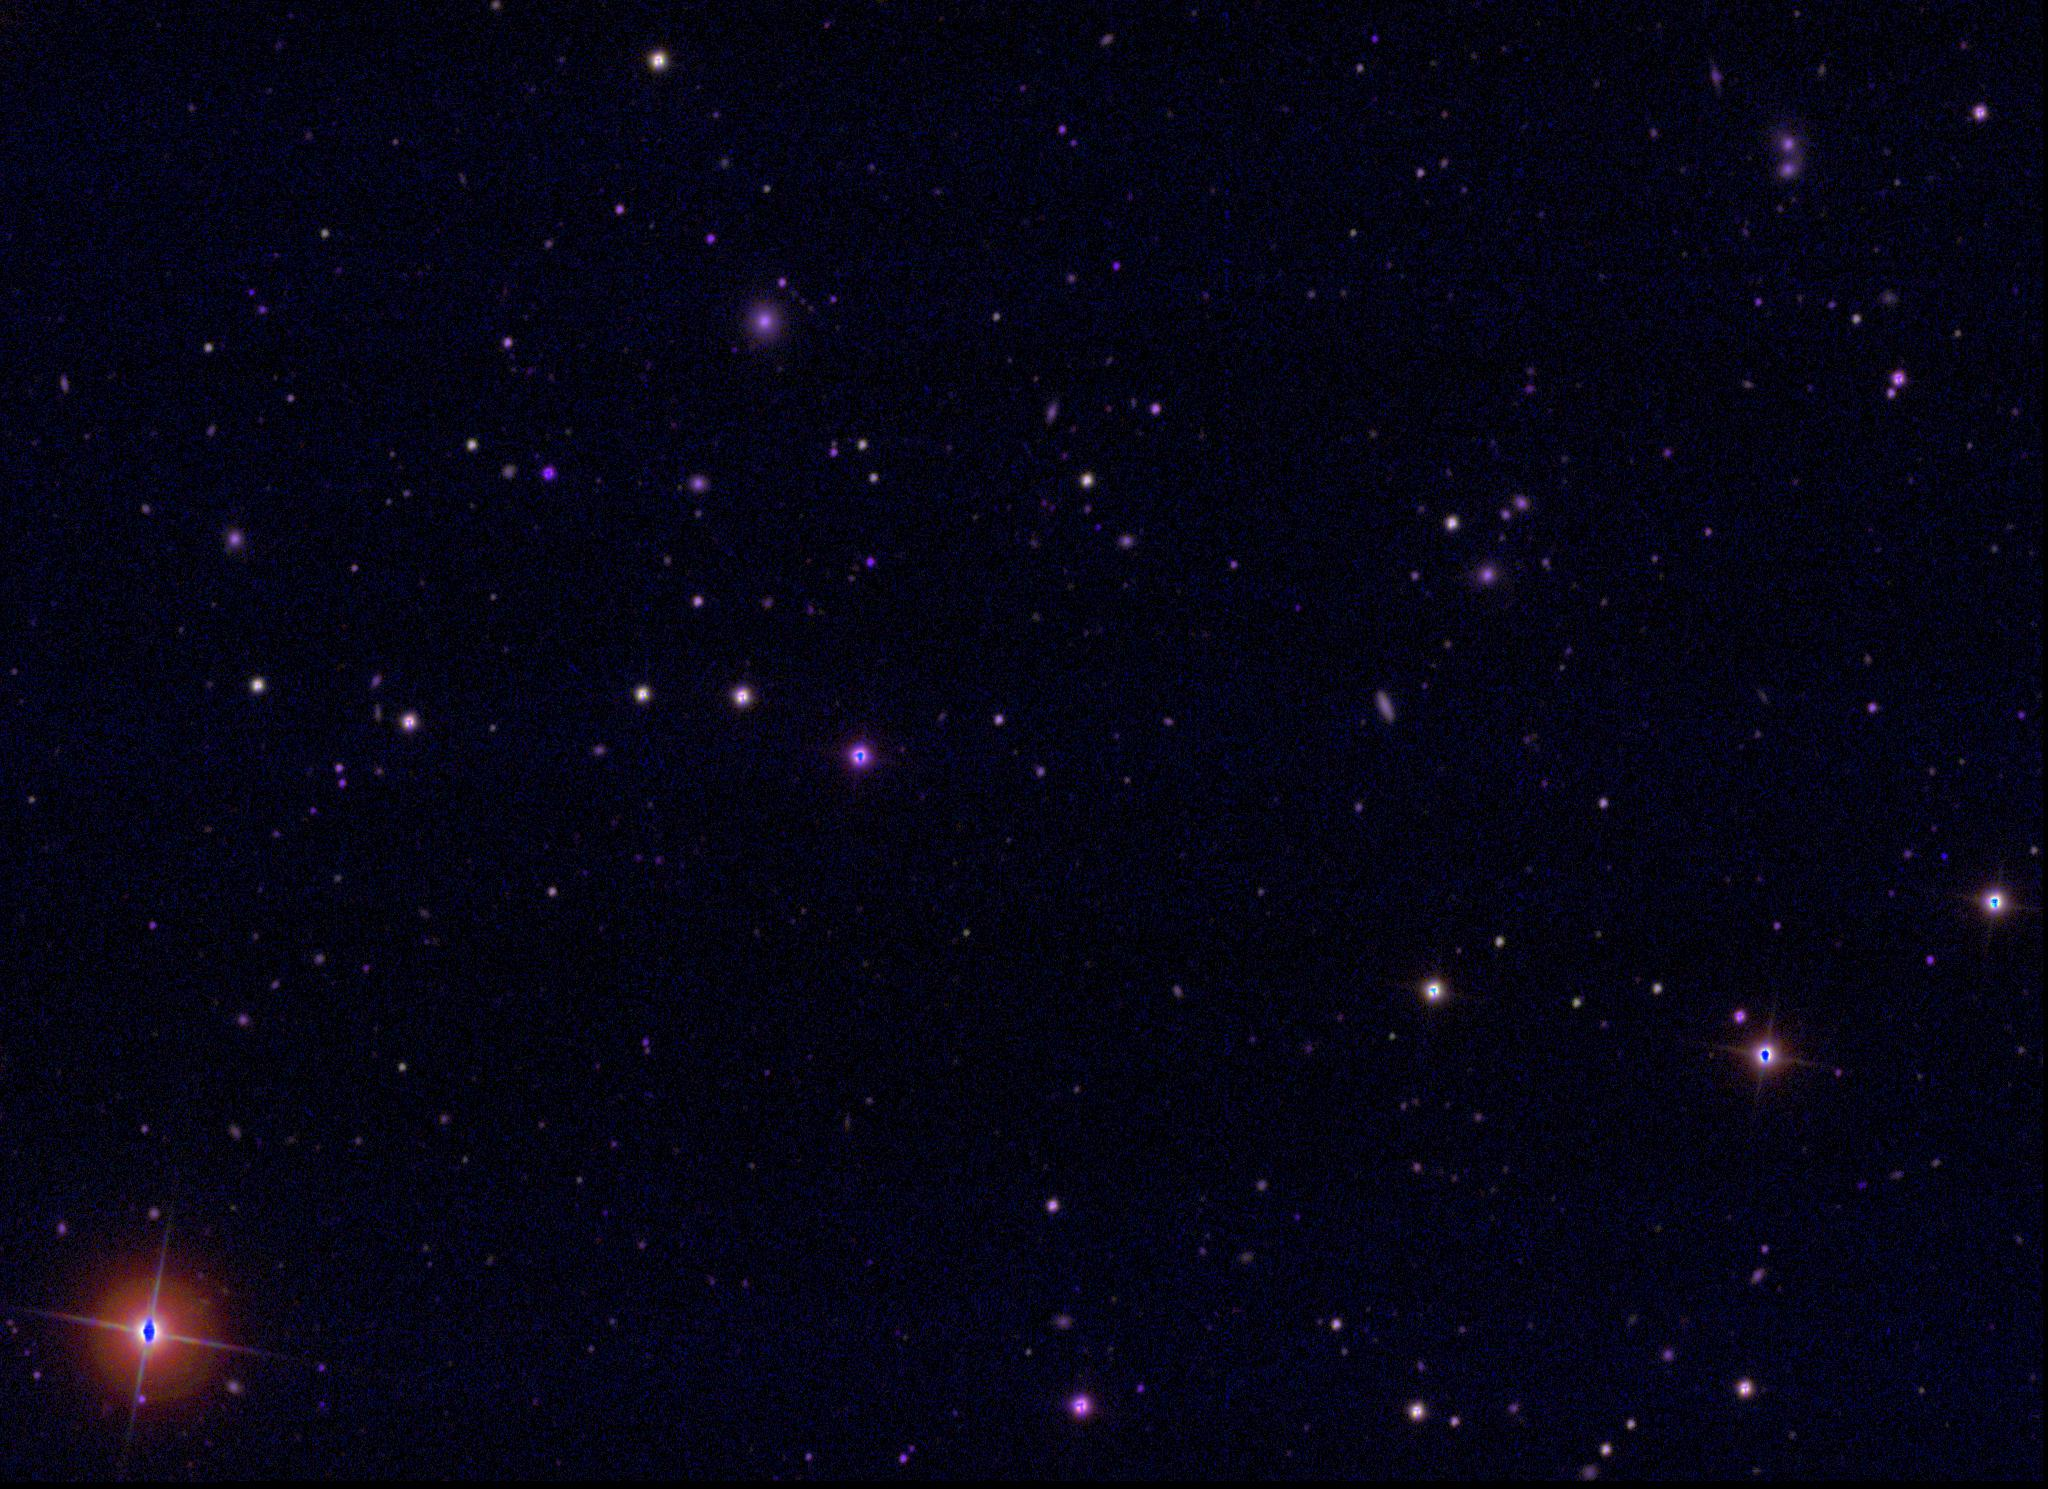L: (1938, 849, 1953, 864)
